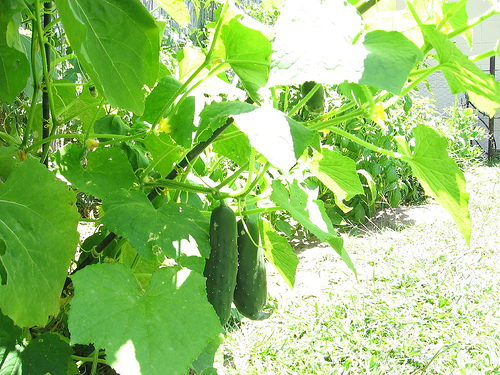cucumber: (204, 204, 240, 324), (243, 212, 275, 322)
